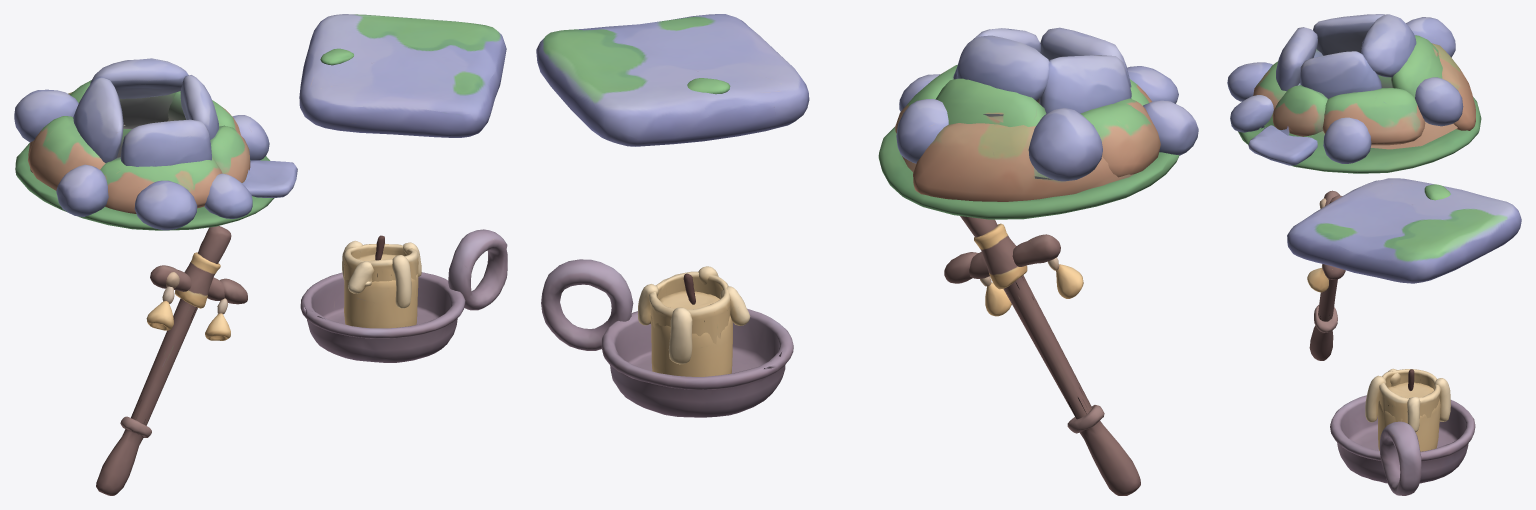
File: reliquias.glb
3 views of the same model, side by side, from view 1: azimuth 30°, elevation 25°; view 2: azimuth 150°, elevation 25°; view 3: azimuth 270°, elevation 25° (orthographic). The views are drawn at different scales.
Parts seen in each view (by area): view 1: geometry_0; view 2: geometry_0; view 3: geometry_0.
Part boxes in pixels (box(x1,y1,x2,y2)): geometry_0: box(14, 14, 507, 495); geometry_0: box(536, 14, 1198, 495); geometry_0: box(1227, 14, 1521, 495).
Bounding box in the file's own units: 1 × 0.7614 × 0.56.
1 material, 1 textured.
